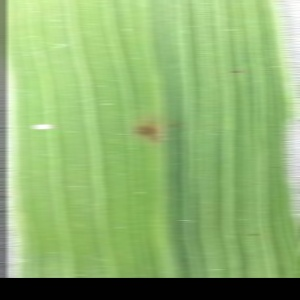Bacterial_Leaf_Blight: (132, 118, 162, 142), (226, 63, 245, 76), (245, 228, 261, 239), (176, 116, 188, 126), (167, 121, 177, 130)
